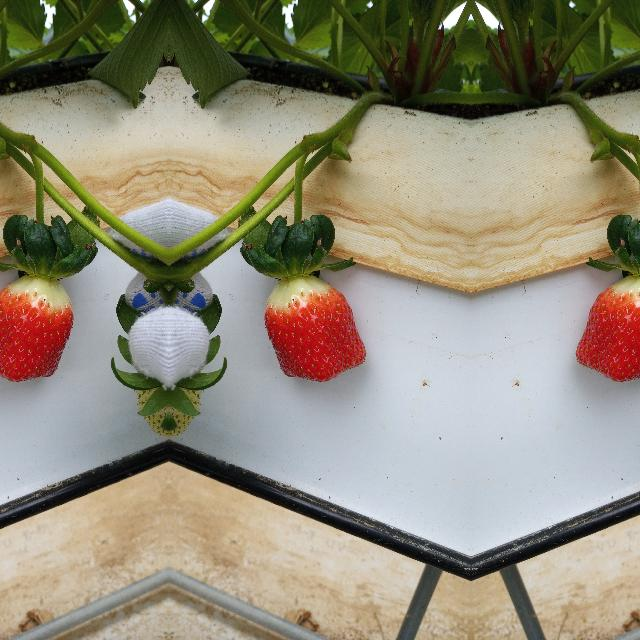Health_100: (262, 274, 366, 382), (0, 273, 74, 382), (575, 273, 640, 382)
